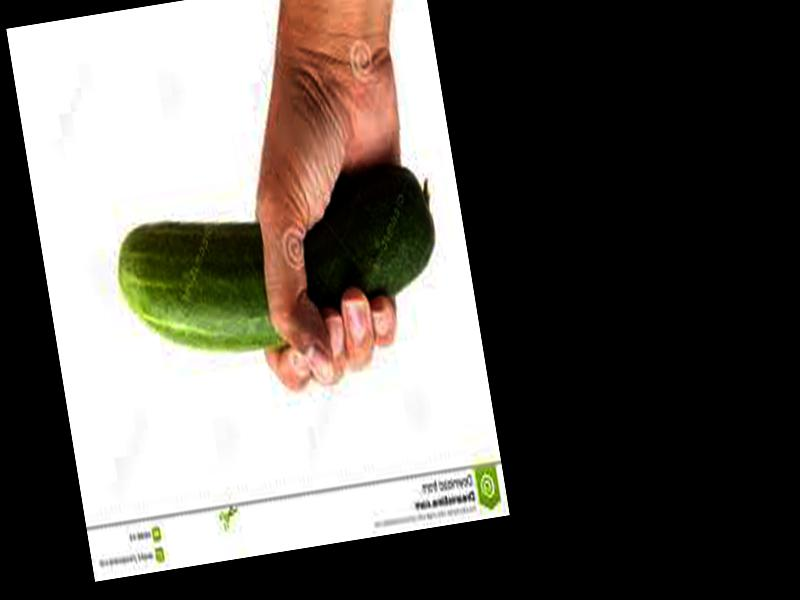Cucumber: (107, 162, 446, 373)
